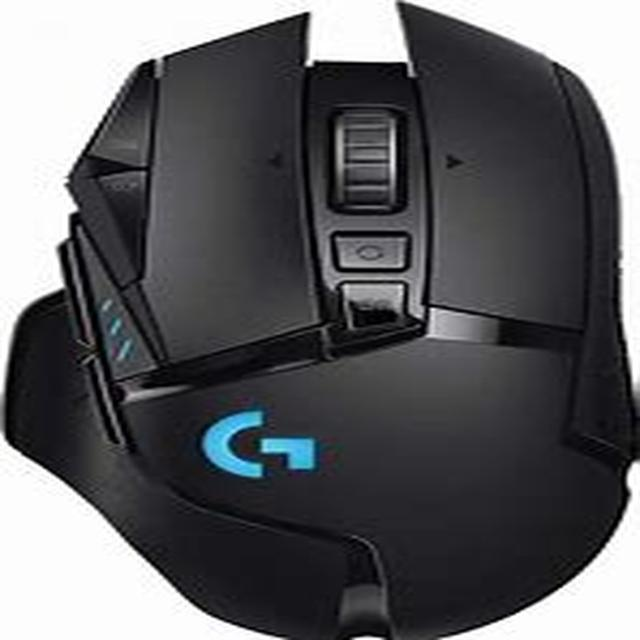mouse: (8, 7, 635, 633)
